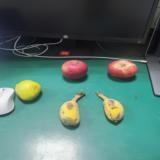apple: (107, 60, 138, 81), (61, 60, 88, 81)
